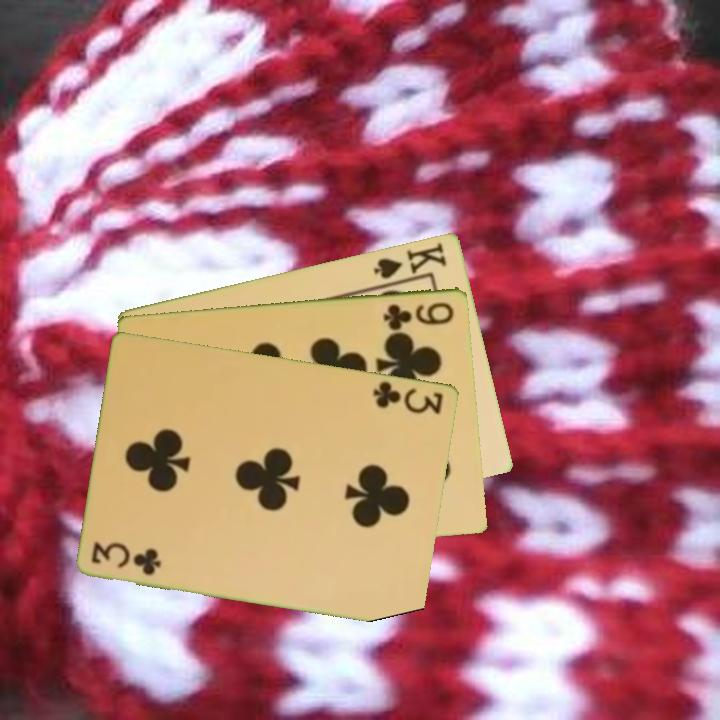3c: (370, 377, 447, 417), (88, 539, 164, 578)
9c: (380, 298, 457, 330)
Ks: (370, 239, 450, 288)
